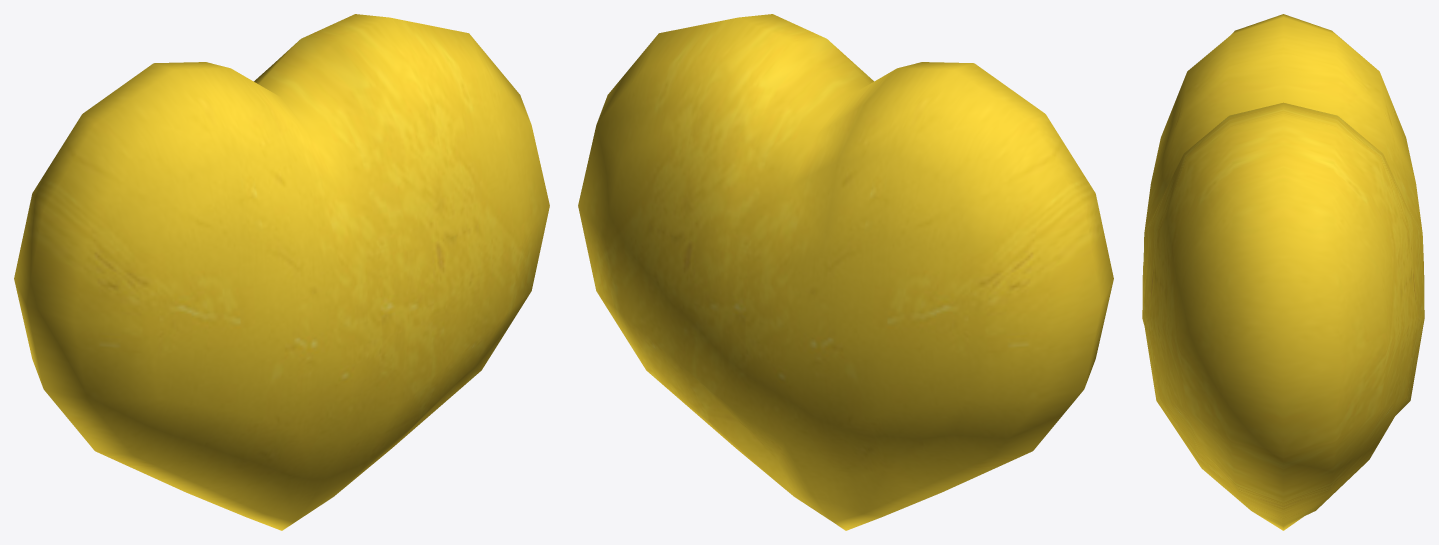
File: ItemSpecial.fbx
3 views of the same model, side by side, from view 1: azimuth 30°, elevation 25°; view 2: azimuth 150°, elevation 25°; view 3: azimuth 270°, elevation 25° (orthographic). The views are drawn at different scales.
Parts seen in each view (by area): view 1: polySurface7; view 2: polySurface7; view 3: polySurface7.
Part boxes in pixels (x1,y1,x2,y2): polySurface7: [14, 14, 549, 530]; polySurface7: [578, 14, 1113, 530]; polySurface7: [1142, 14, 1424, 530].
Size of the model in its own units: 1.05 by 0.9593 by 0.5293.
1 material, 1 textured.
